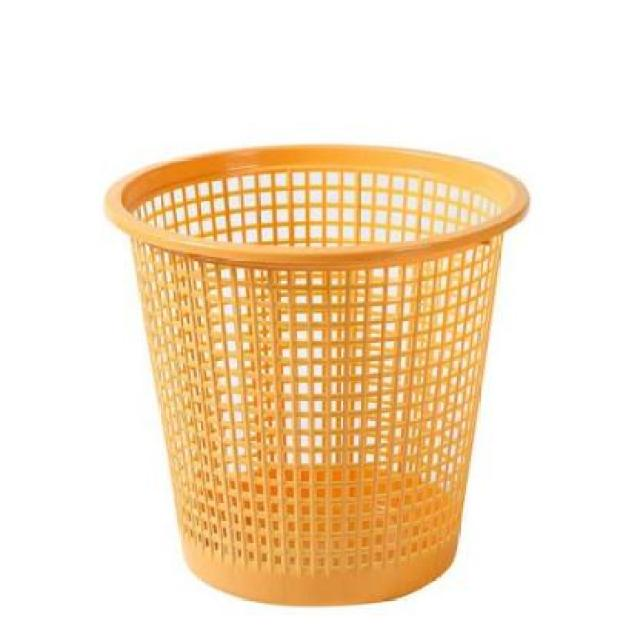dustbin: (98, 138, 534, 612)
